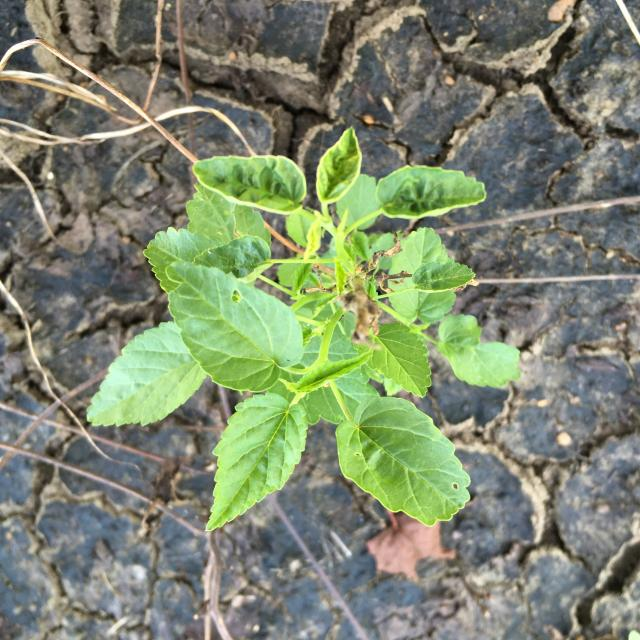PricklySida: (86, 127, 522, 534)
